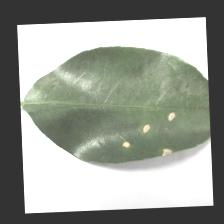canker: (98, 108, 188, 158)
